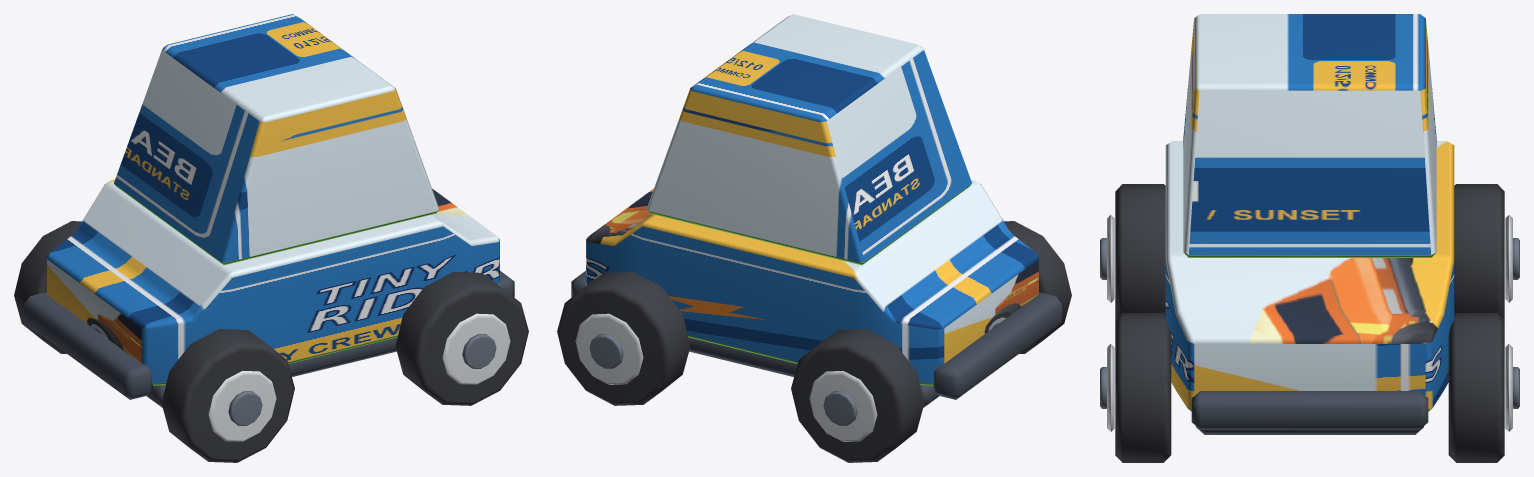
The picture shows the model from 3 angles, left to right: view 1: azimuth 30°, elevation 25°; view 2: azimuth 150°, elevation 25°; view 3: azimuth 270°, elevation 25°; orthographic projection. The views are drawn at different scales.
Parts seen in each view (by area): view 1: CC-02_cabin, CC-02_connected_shell, Tire, Tire.002, front bumper, Rim, Rim.002, Tire.001, underbody, Hub.002, Hub; view 2: CC-02_cabin, CC-02_connected_shell, Tire.001, Tire.003, front bumper, Rim.001, Rim.003, Tire, underbody, Hub.003, Hub.001; view 3: CC-02_cabin, CC-02_connected_shell, rear bumper, Tire.002, Tire.003, Tire, Tire.001, underbody, Rim, Rim.001, Rim.002, Rim.003.
Part boxes in pixels (x1,y1,x2,y2): CC-02_cabin: (114,14,438,265); CC-02_connected_shell: (47,179,499,385); Tire: (161,329,294,462); Tire.002: (395,272,528,405); front bumper: (24,292,152,399); Rim: (208,371,276,441); Rim.002: (442,313,510,384); Tire.001: (14,221,81,353); underbody: (146,337,397,407); Hub.002: (462,334,496,368); Hub: (228,391,262,425); CC-02_cabin: (647,14,971,265); CC-02_connected_shell: (586,179,1038,385); Tire.001: (791,329,924,462); Tire.003: (557,272,690,405); front bumper: (933,292,1061,399); Rim.001: (809,371,877,441); Rim.003: (575,313,643,384); Tire: (1004,221,1071,353); underbody: (688,337,939,407); Hub.003: (589,334,623,368); Hub.001: (823,391,857,425); CC-02_cabin: (1183,14,1436,257); CC-02_connected_shell: (1165,141,1454,411); rear bumper: (1191,391,1428,429); Tire.002: (1115,313,1171,462); Tire.003: (1448,313,1504,462); Tire: (1115,184,1165,319); Tire.001: (1454,184,1504,319); underbody: (1196,426,1423,434); Rim: (1107,215,1114,302); Rim.001: (1505,215,1512,302); Rim.002: (1107,344,1114,431); Rim.003: (1505,344,1512,431).
Bounding box in the file's own units: 238 × 178 × 195.
